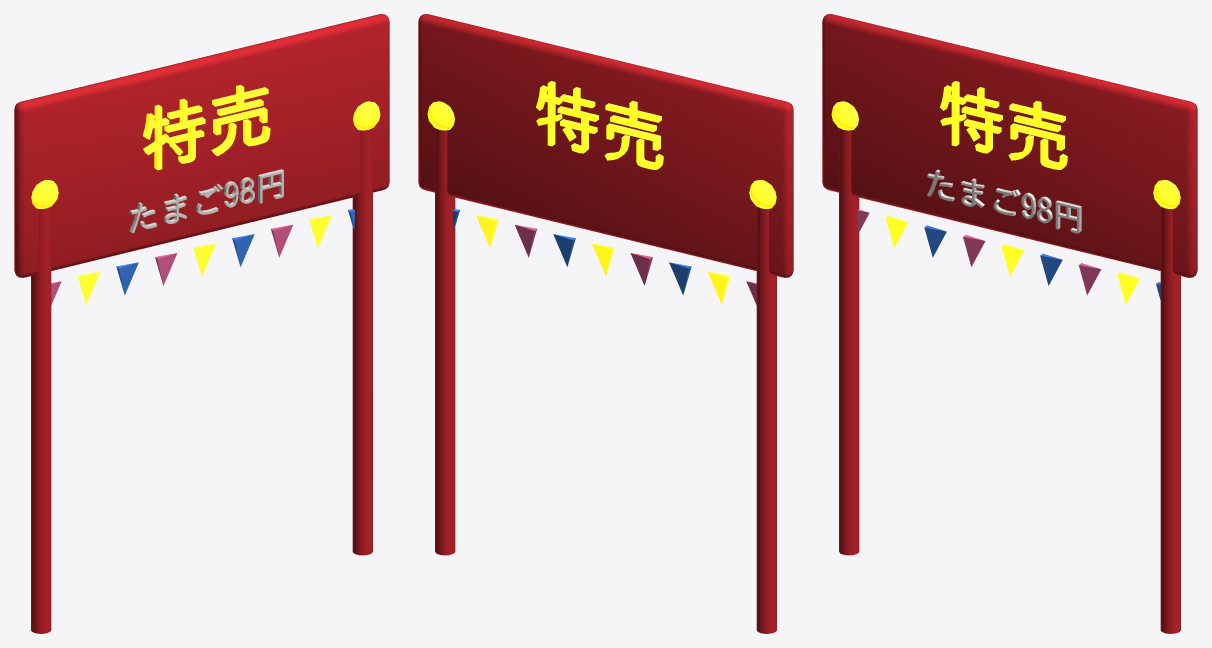
The model's file is sale.glb.
3 renders of one model, left to right at view 1: azimuth 30°, elevation 25°; view 2: azimuth 150°, elevation 25°; view 3: azimuth 330°, elevation 25°, orthographic.
Visible parts, largest first — view 1: sale_body; view 2: sale_body; view 3: sale_body.
Part boxes in pixels (x1,y1,x2,y2): sale_body: (14, 14, 389, 633); sale_body: (418, 14, 793, 633); sale_body: (822, 14, 1197, 633).
Bounding box in the file's own units: 2.9 × 3.95 × 0.24.
